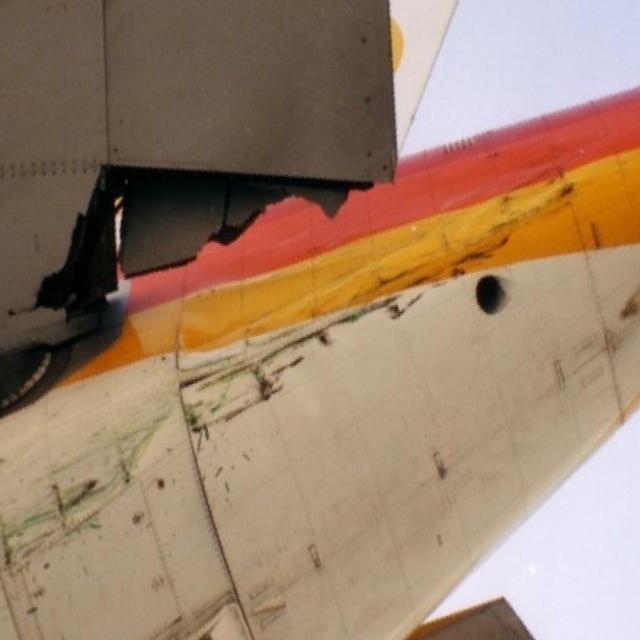crack: (9, 158, 386, 320)
